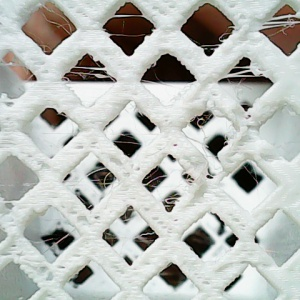3dpstringing: (143, 156, 199, 210), (65, 154, 116, 210), (103, 215, 157, 261), (179, 118, 239, 157), (32, 220, 83, 260), (62, 64, 112, 96), (32, 4, 80, 37), (221, 63, 263, 100), (104, 12, 153, 41), (202, 24, 240, 59), (262, 6, 298, 39), (143, 79, 196, 101), (238, 164, 266, 189), (32, 41, 57, 57)
3dpunderextrusion: (229, 113, 272, 169), (4, 203, 30, 262), (189, 159, 226, 196), (31, 263, 74, 283)
